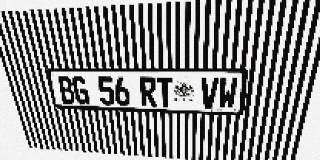5: (97, 77, 116, 105)
6: (113, 77, 131, 106)
B: (57, 76, 76, 104)
G: (71, 76, 90, 105)
R: (139, 77, 157, 107)
T: (156, 77, 173, 107)
V: (200, 77, 219, 109)
W: (218, 77, 238, 109)
